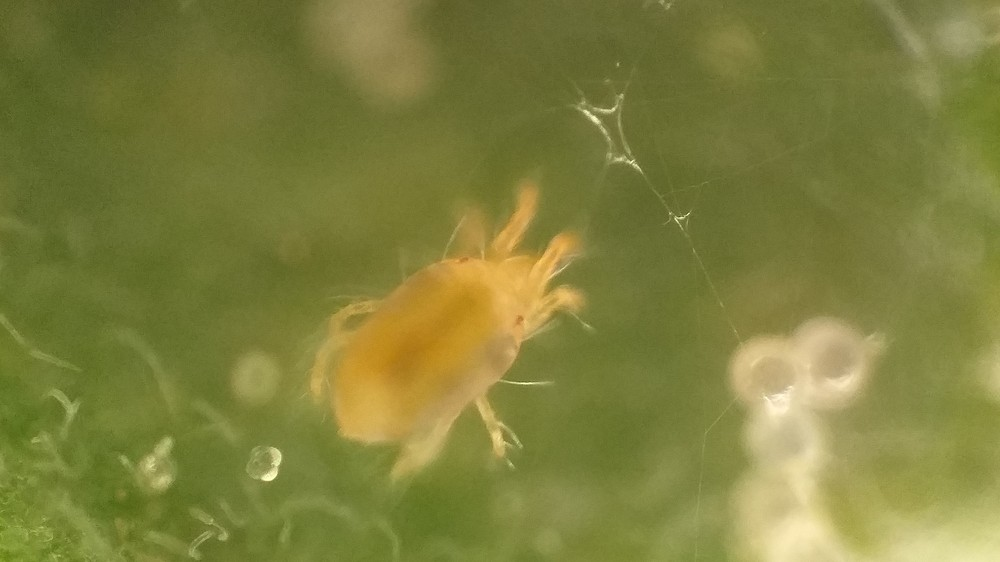Aracnido Rojo: (305, 165, 605, 493)
